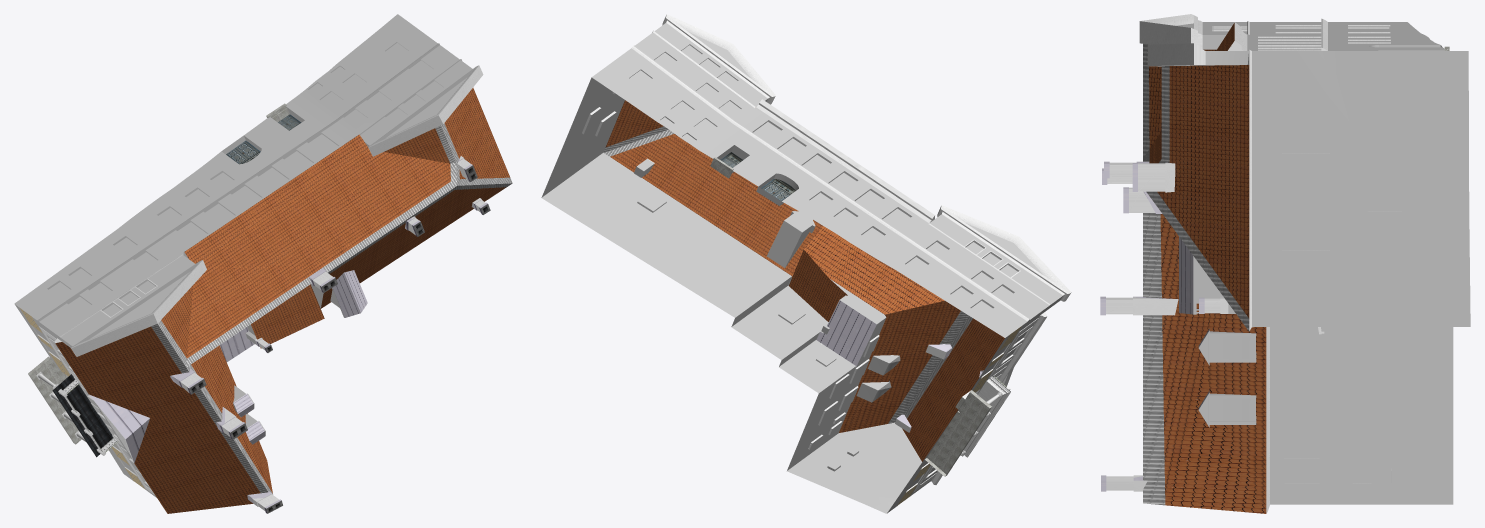
Rendered from Lossi_plats_7.obj.
The picture shows the model from 3 angles, left to right: view 1: azimuth 30°, elevation 25°; view 2: azimuth 150°, elevation 25°; view 3: azimuth 270°, elevation 25°; orthographic projection. The views are drawn at different scales.
Visible parts, largest first — view 1: Lossi_plats_7; view 2: Lossi_plats_7; view 3: Lossi_plats_7.
Boxes of the visible parts, x1=… form: Lossi_plats_7: x1=14, y1=14, x2=512, y2=513; Lossi_plats_7: x1=541, y1=14, x2=1071, y2=513; Lossi_plats_7: x1=1100, y1=14, x2=1470, y2=513.
Size of the model in its own units: 44.59 by 36.41 by 17.93.
